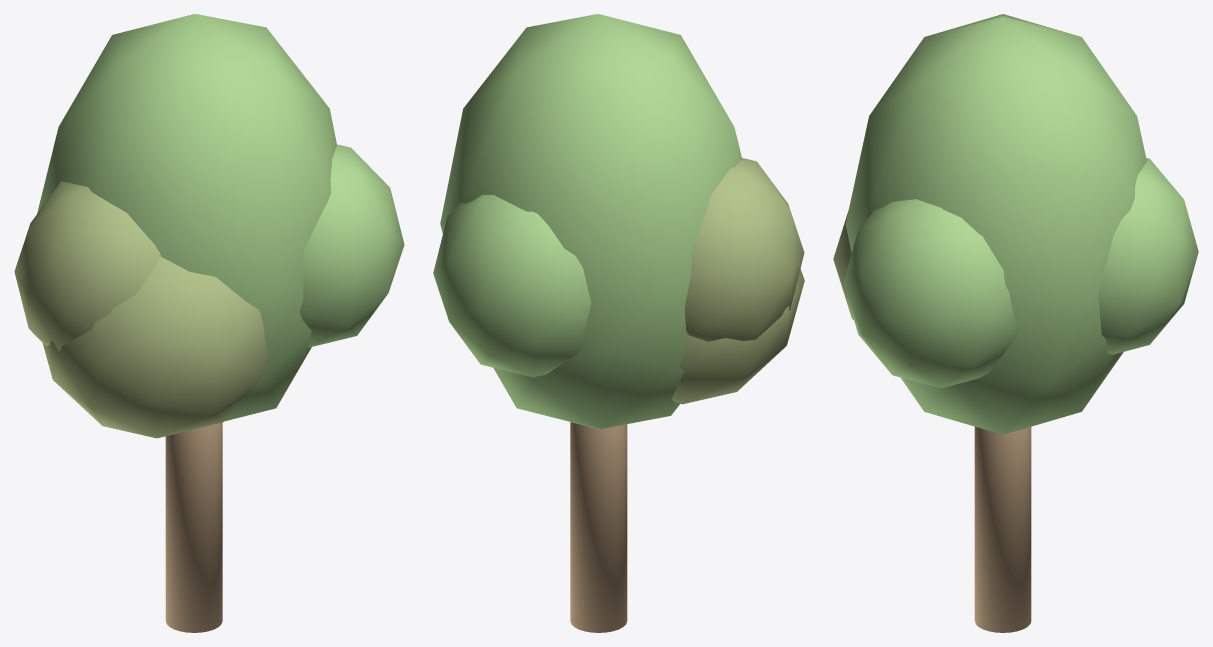
The model's file is tree_enhanced.glb.
The picture shows the model from 3 angles, left to right: view 1: azimuth 30°, elevation 25°; view 2: azimuth 150°, elevation 25°; view 3: azimuth 270°, elevation 25°; orthographic projection.
Parts seen in each view (by area): view 1: Canopy_green, Canopy_olive, Trunk_wood; view 2: Canopy_green, Canopy_olive, Trunk_wood; view 3: Canopy_green, Trunk_wood, Canopy_olive.
Boxes of the visible parts, x1,y1,x2,y2 form: Canopy_green: (37, 14, 404, 421); Canopy_olive: (14, 181, 268, 438); Trunk_wood: (165, 422, 222, 632); Canopy_green: (433, 14, 742, 428); Canopy_olive: (671, 158, 804, 404); Trunk_wood: (570, 422, 627, 632); Canopy_green: (843, 14, 1198, 434); Trunk_wood: (974, 426, 1031, 632); Canopy_olive: (833, 210, 853, 319).
Size of the model in its own units: 1.54 by 2.58 by 1.42.
